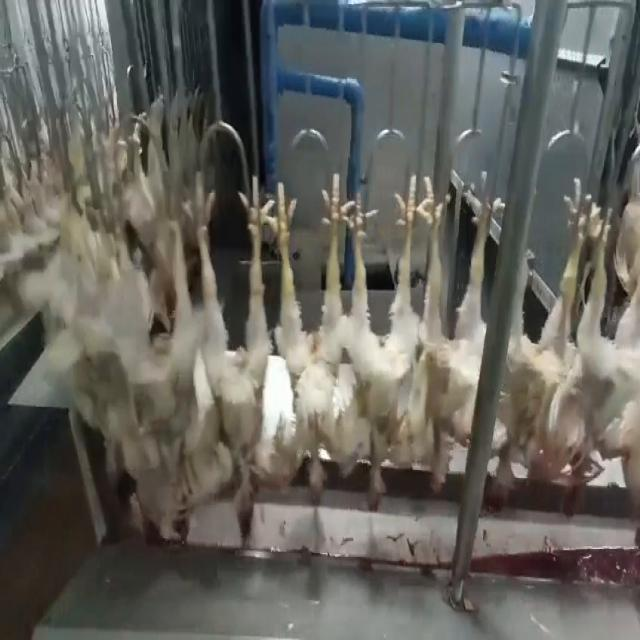chicken: (485, 163, 602, 516), (332, 164, 419, 514), (190, 174, 270, 537), (414, 158, 499, 496), (269, 172, 345, 511), (124, 186, 190, 540), (584, 202, 639, 479)
